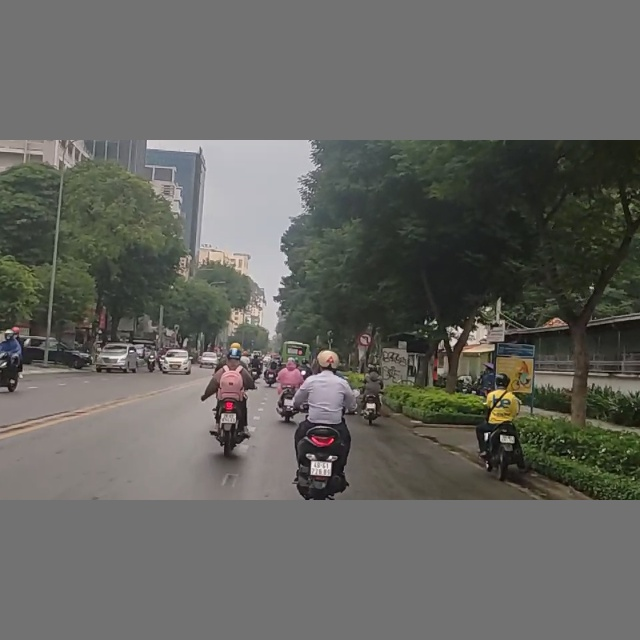P.123a: (358, 333, 372, 346)
